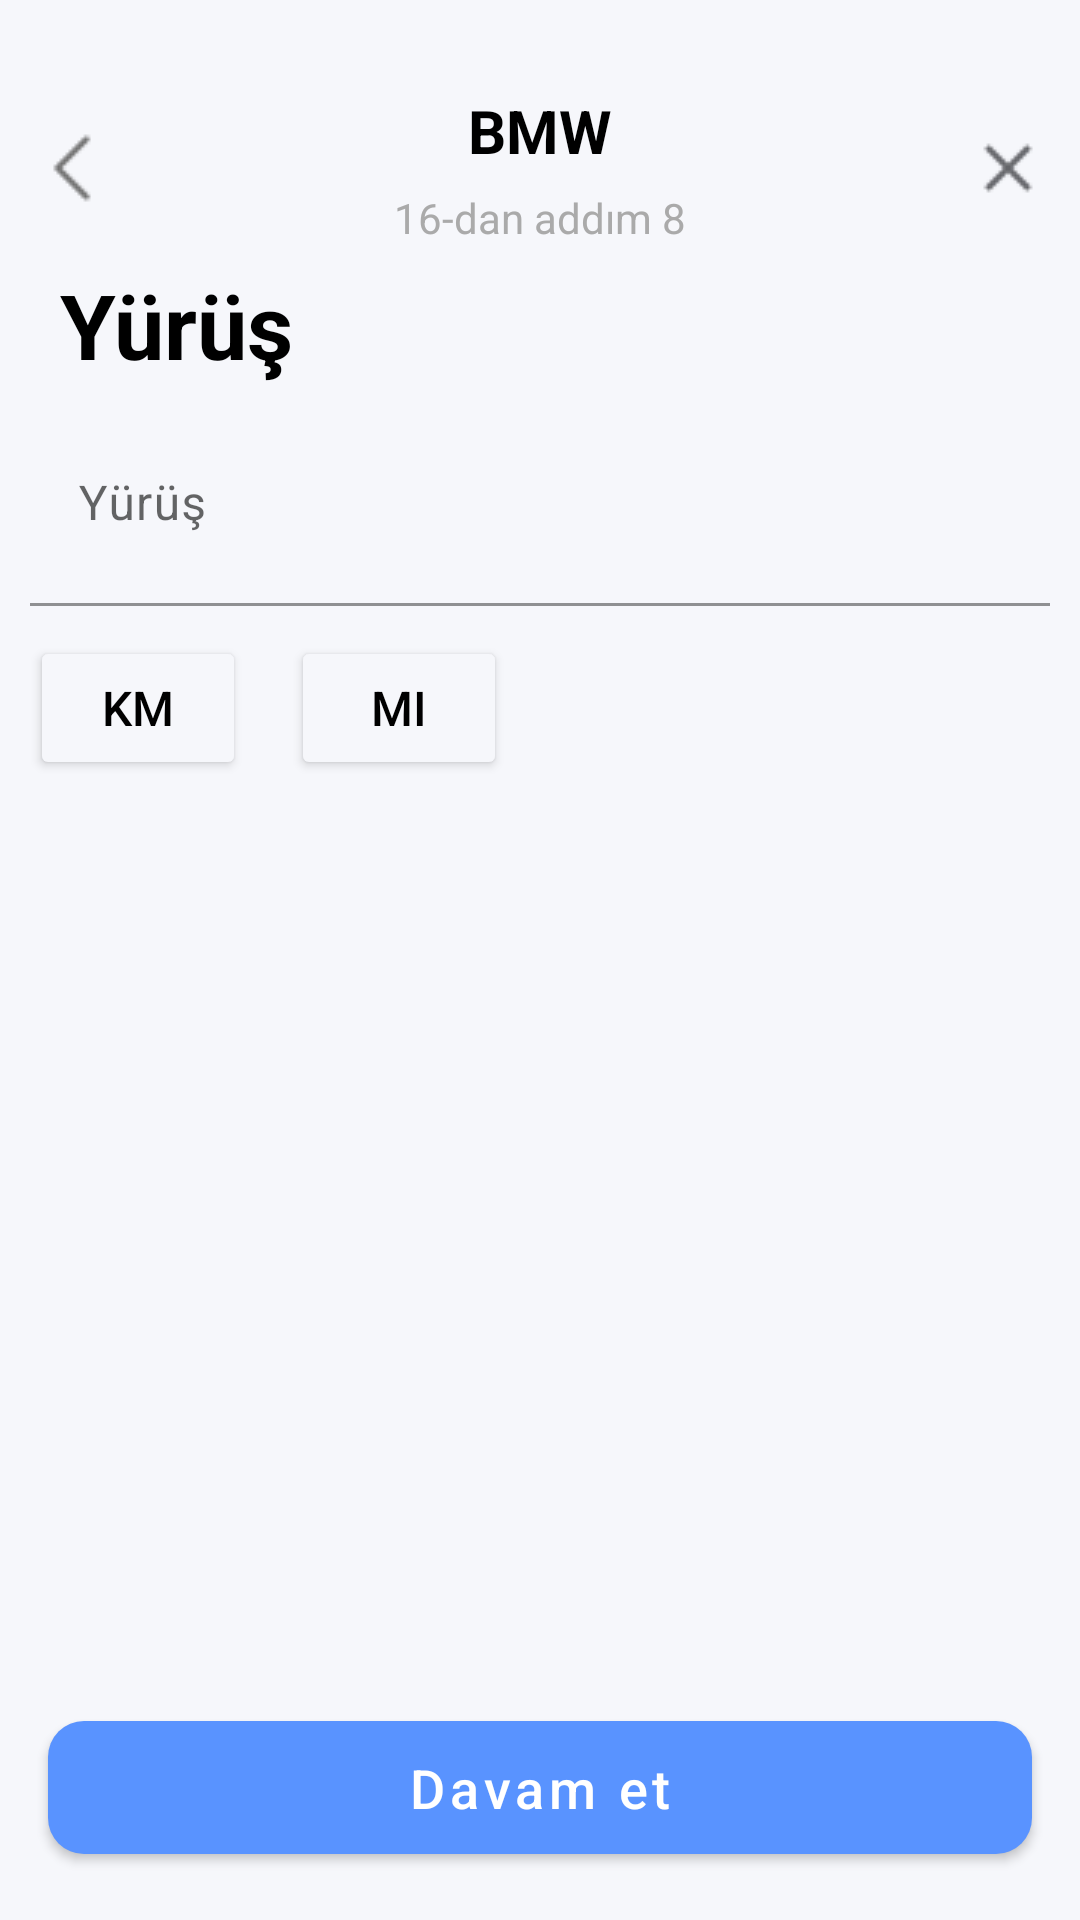

Locate icon controls on the screen. Image size 1080w x 1920h, boxes as {"left": x1, "top": y1, "right": x2, "bottom": y2}.
back: {"left": 53, "top": 135, "right": 91, "bottom": 201}
cancel: {"left": 984, "top": 144, "right": 1032, "bottom": 192}
